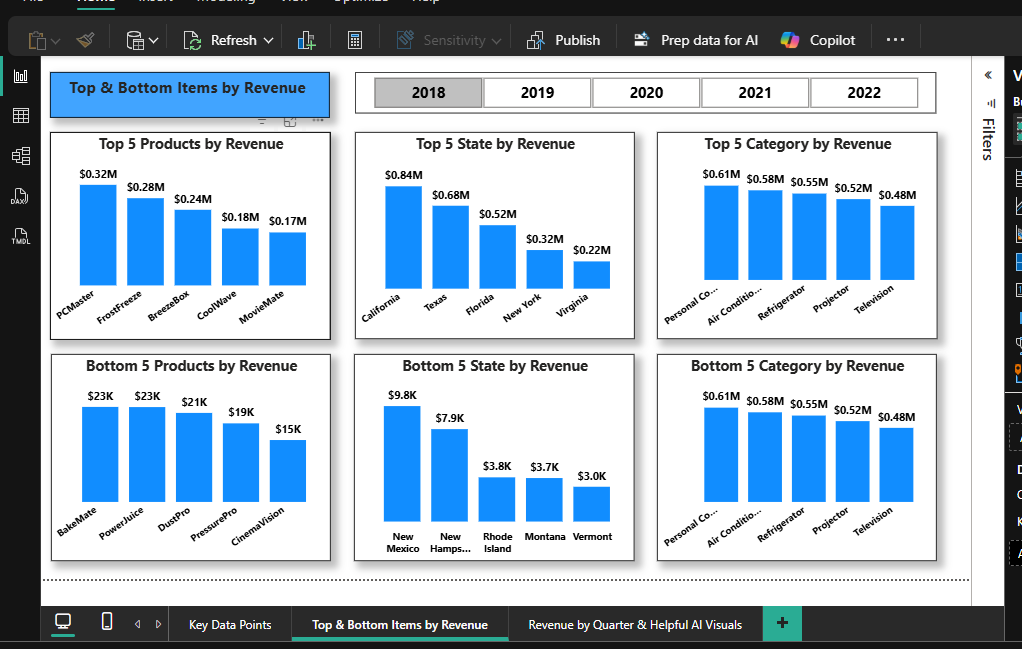

What the dashboard file says about the page in this screenshot:
{"tool":"powerbi","page":{"name":"Top & Bottom Items by Revenue ","canvas":[1280,720],"ordinal":1},"visuals":[{"type":"columnChart","title":" Top 5 Products by Revenue ","fields":{"Category":["DimProducts.Product Name"],"Y":["Sum(FactSales.Total Sales)"]},"box":[12.3,104.6,386.2,286.2],"z":0},{"type":"columnChart","title":" Bottom 5 Products by Revenue ","fields":{"Category":["DimProducts.Product Name"],"Y":["Sum(FactSales.Total Sales)"]},"box":[13.8,410.8,384.6,284.6],"z":1000},{"type":"columnChart","title":"Top 5 State by Revenue","fields":{"Y":["Sum(FactSales.Total Sales)"],"Category":["DimCustomers.State"]},"box":[432.3,104.6,384.6,284.6],"z":2000},{"type":"columnChart","title":"Bottom 5 State by Revenue ","fields":{"Y":["Sum(FactSales.Total Sales)"],"Category":["DimCustomers.State"]},"box":[430.8,410.8,386.2,284.6],"z":3000},{"type":"columnChart","title":"Top 5 Category by Revenue","fields":{"Y":["Sum(FactSales.Total Sales)"],"Category":["DimProducts.Product Category"]},"box":[847.7,104.6,386.2,284.6],"z":4000},{"type":"columnChart","title":"Bottom 5 Category by Revenue","fields":{"Y":["Sum(FactSales.Total Sales)"],"Category":["DimProducts.Product Category"]},"box":[847.7,410.8,384.6,284.6],"z":5000},{"type":"slicer","fields":{"Values":["DimTransaction.Year"]},"box":[432.3,21.5,800,56.9],"z":6000},{"type":"textbox","box":[12.3,21.5,384.6,63.1],"z":7000}]}

Visuals, with their boxes on the page's 1280x720 design canvas (x1, y1, x2, y2). These are canvas units, not pixel positions in the 1022x649 screenshot, which may show the page scaled, cropped or inside an application window:
" Top 5 Products by Revenue " columnChart: 12, 105, 398, 391
" Bottom 5 Products by Revenue " columnChart: 14, 411, 398, 695
"Top 5 State by Revenue" columnChart: 432, 105, 817, 389
"Bottom 5 State by Revenue " columnChart: 431, 411, 817, 695
"Top 5 Category by Revenue" columnChart: 848, 105, 1234, 389
"Bottom 5 Category by Revenue" columnChart: 848, 411, 1232, 695
slicer - DimTransaction.Year: 432, 22, 1232, 78
textbox: 12, 22, 397, 85
